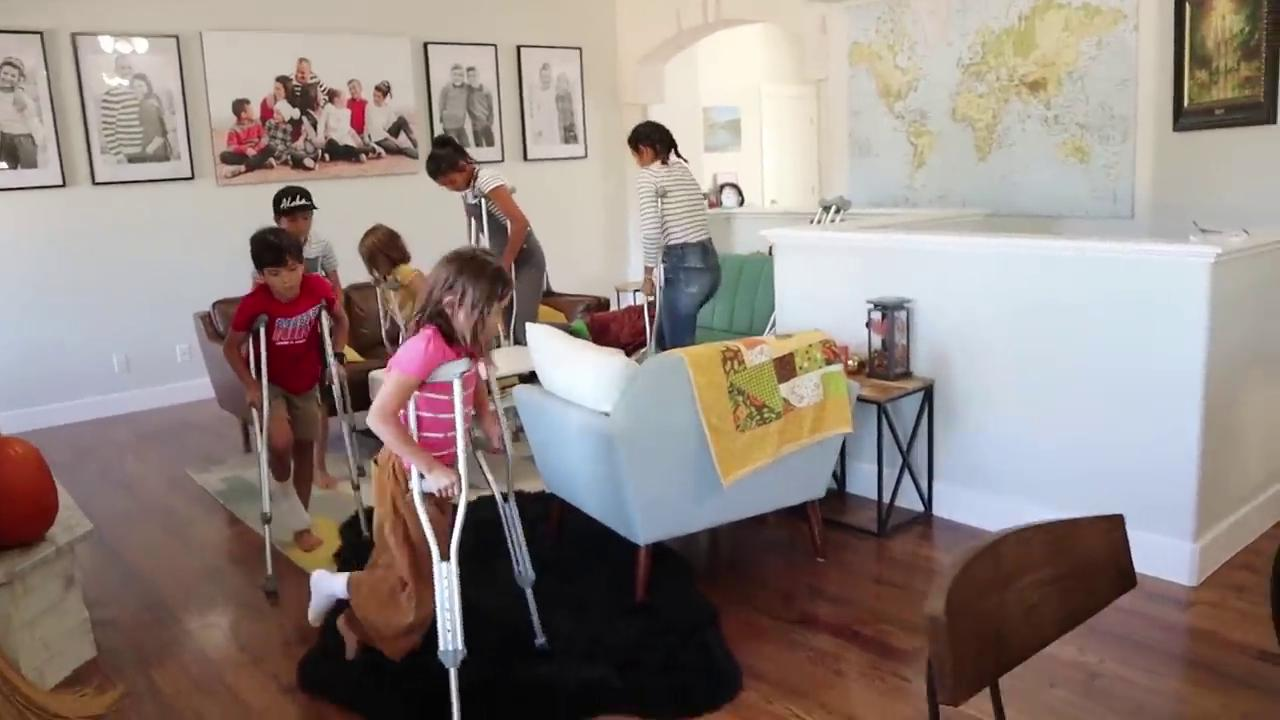crutches: (308, 246, 547, 719)
